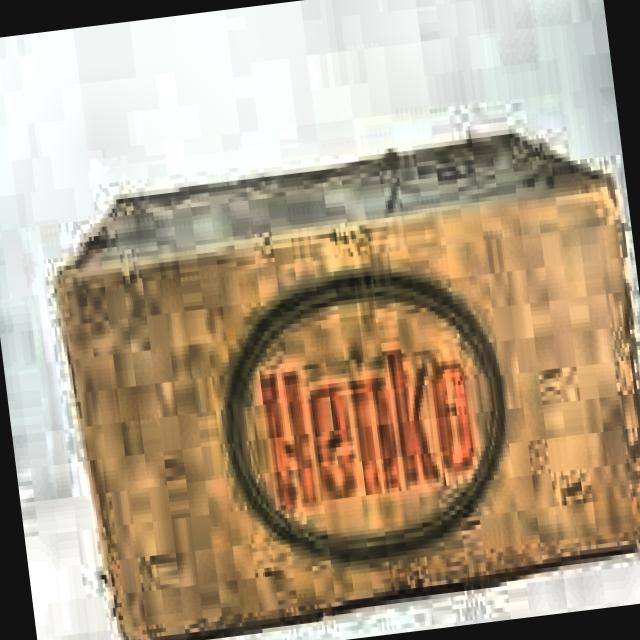cardboard: (36, 112, 640, 640)
